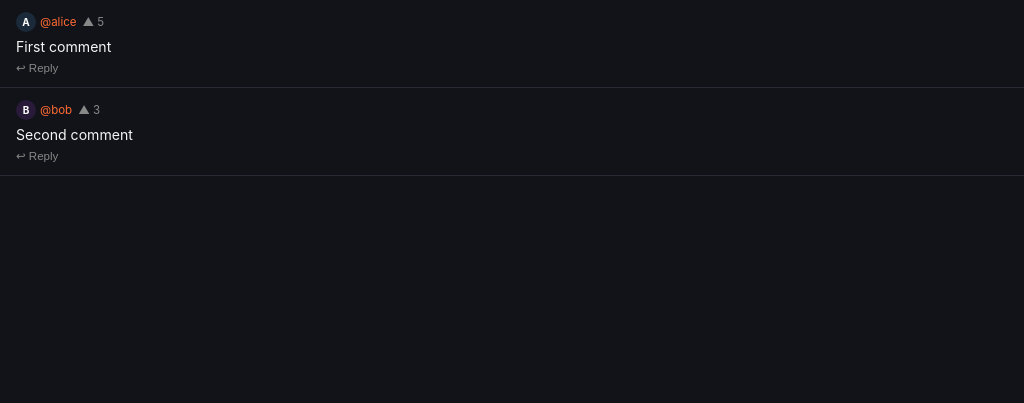
Test: CommentList › opens reply sheet when Reply is clicked on a comment
What coordinates should you click on to do the following:
click the button "↩ Reply" below "First comment"
I would click on:
 (37, 66)
Its box is [16, 57, 58, 75].
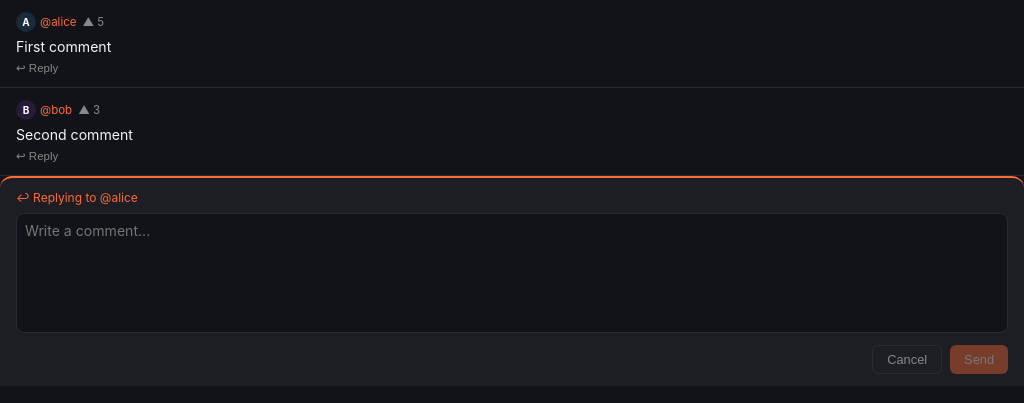
Check: the text "↩ Replying to @alice" is shown, box [16, 190, 138, 205]
